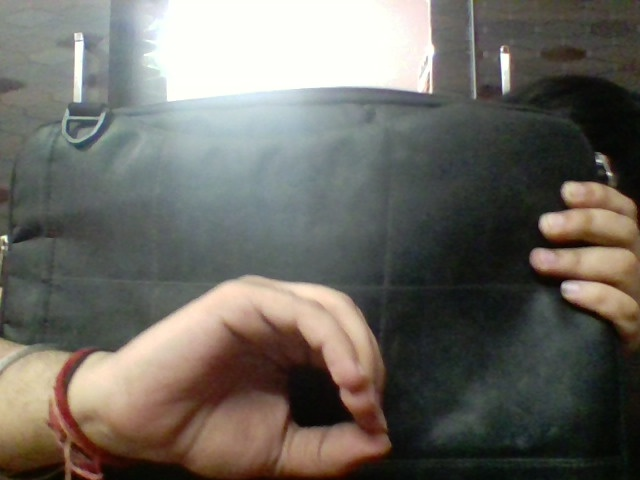o: (115, 269, 397, 472)
